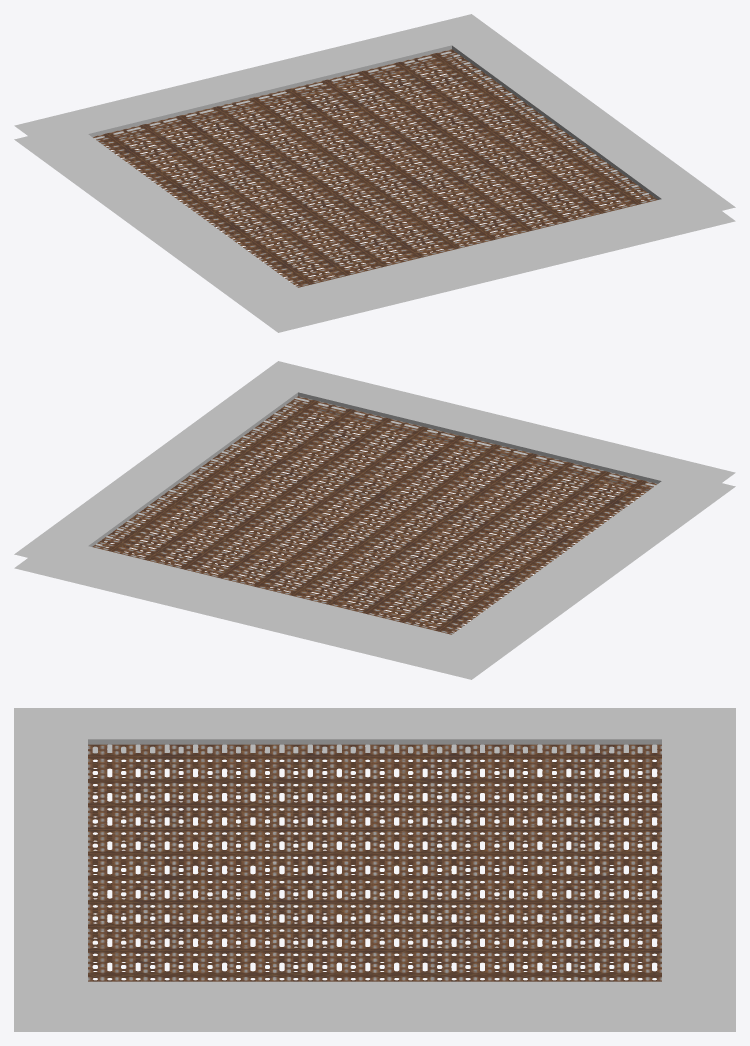
File: Elevated_Floor.fbx
3 renders of one model, top to bottom at view 1: azimuth 30°, elevation 25°; view 2: azimuth 150°, elevation 25°; view 3: azimuth 270°, elevation 25°, orthographic. The views are drawn at different scales.
Parts seen in each view (by area): view 1: Elevated_Floor; view 2: Elevated_Floor; view 3: Elevated_Floor.
Part boxes in pixels (left/top/right/bottom): Elevated_Floor: left=14, top=14, right=735, bottom=332; Elevated_Floor: left=14, top=361, right=735, bottom=679; Elevated_Floor: left=14, top=708, right=735, bottom=1031.
Size of the model in its own units: 400 by 11.53 by 400.
